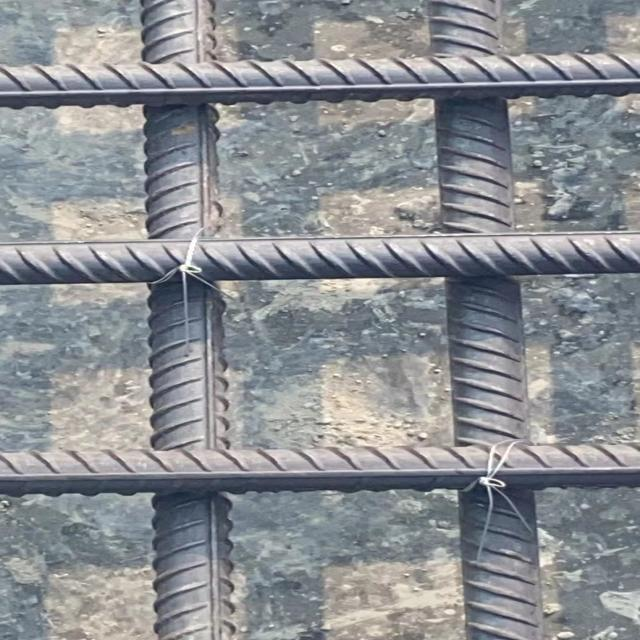ribbed bar: (424, 0, 543, 639), (138, 0, 236, 639), (0, 50, 639, 111), (0, 229, 639, 287), (0, 440, 639, 498)
